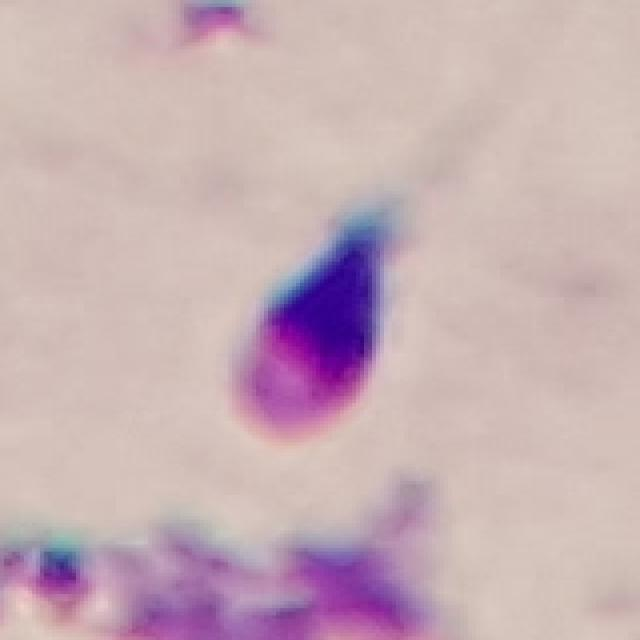normal sperm: (236, 144, 458, 438)
